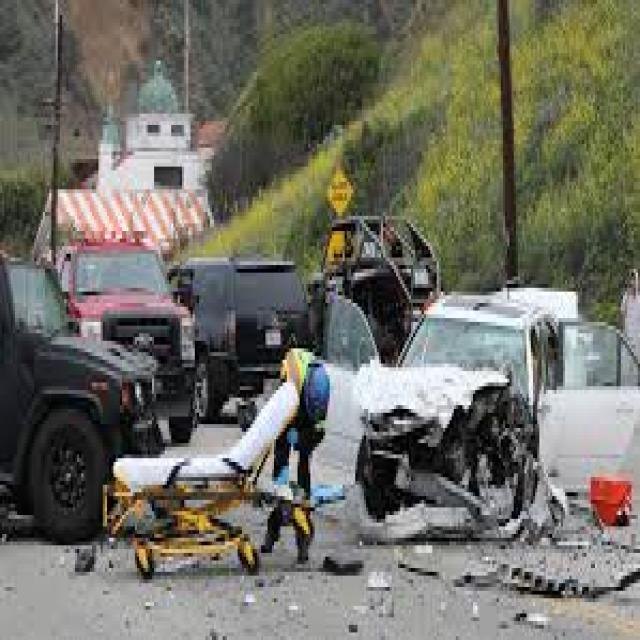accident: (358, 282, 621, 538)
